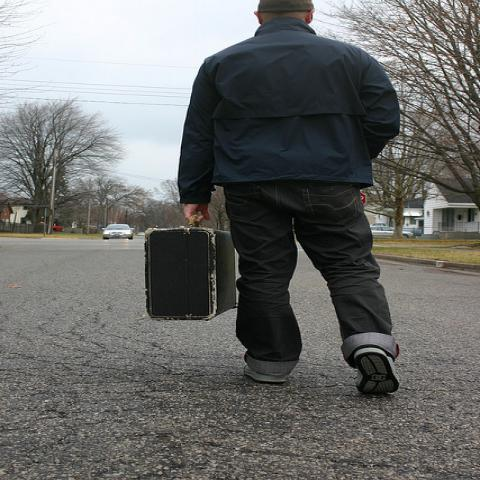car: (370, 226, 415, 239), (102, 224, 134, 239), (137, 232, 146, 236)
